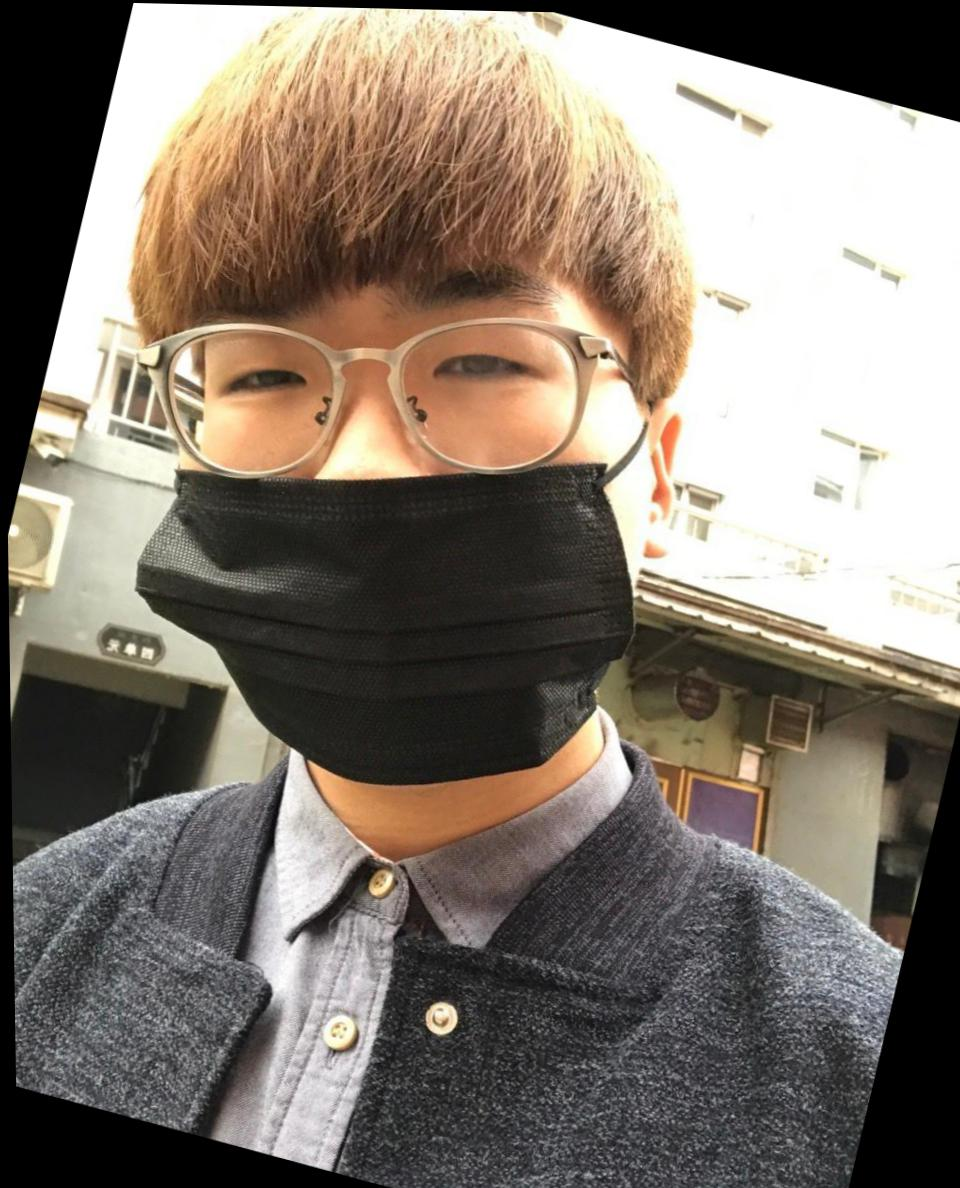WRONG: (107, 136, 727, 824)
